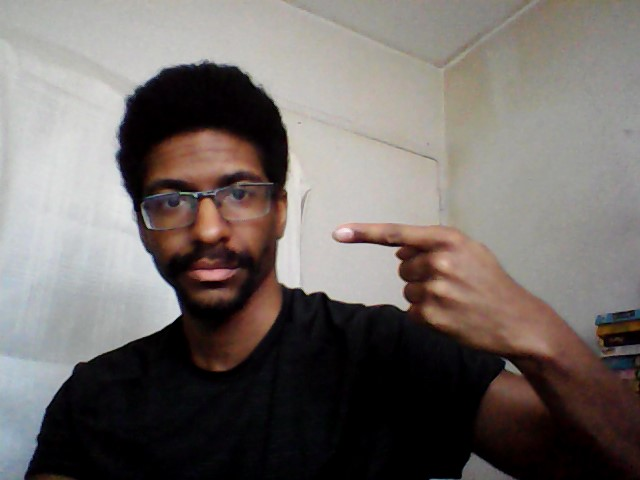g: (328, 217, 556, 353)
